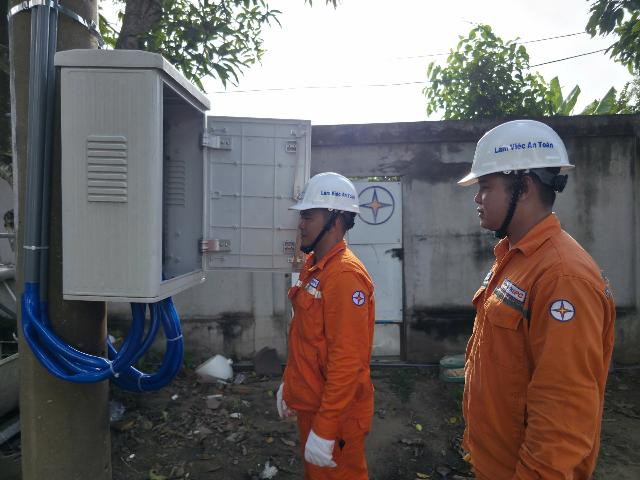gloves: (292, 417, 343, 474), (267, 382, 303, 423)
helmet: (462, 106, 583, 187), (289, 165, 368, 218)
